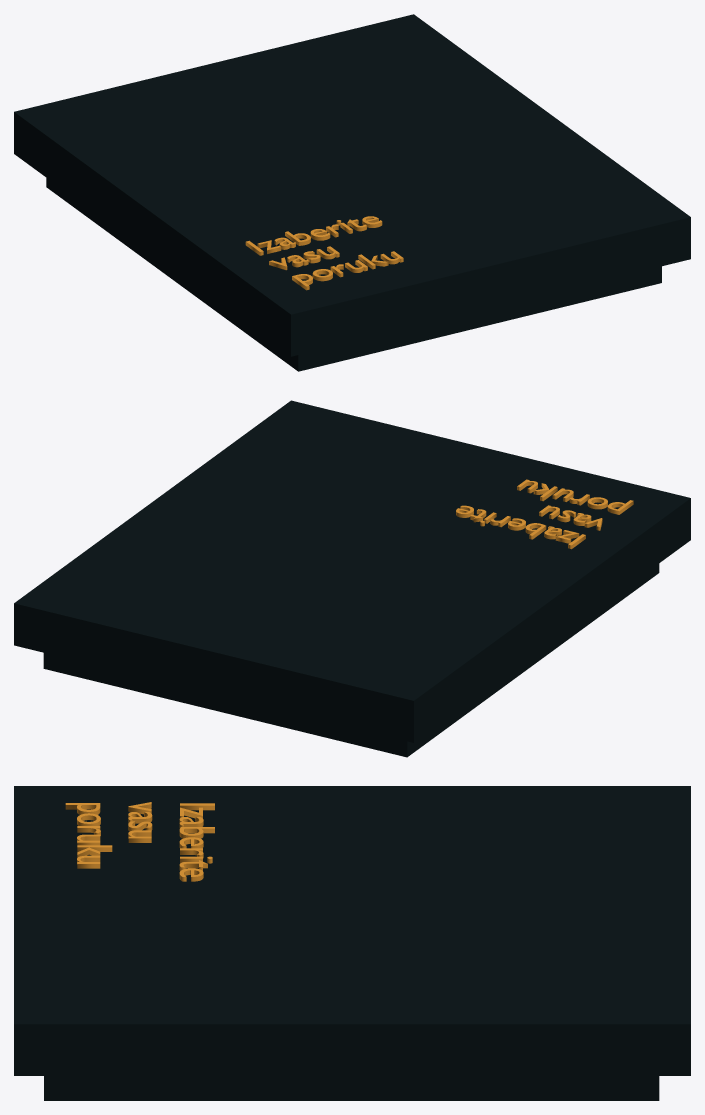
The model's file is kutija3.270c937f.glb.
3 renders of one model, top to bottom at view 1: azimuth 30°, elevation 25°; view 2: azimuth 150°, elevation 25°; view 3: azimuth 270°, elevation 25°, orthographic. The views are drawn at different scales.
Visible parts, largest first — view 1: Cube.002, Cube, Text; view 2: Cube.002, Cube, Text; view 3: Cube.002, Cube, Text.
Part boxes in pixels (x1,y1,x2,y2): Cube.002: (14, 14, 690, 356); Cube: (46, 178, 661, 371); Text: (245, 216, 403, 290); Cube.002: (14, 400, 690, 742); Cube: (43, 563, 659, 757); Text: (456, 479, 633, 549); Cube.002: (14, 786, 690, 1075); Cube: (44, 1076, 659, 1100); Text: (65, 802, 214, 881).
Size of the model in its own units: 15.91 by 2.97 by 19.09.
